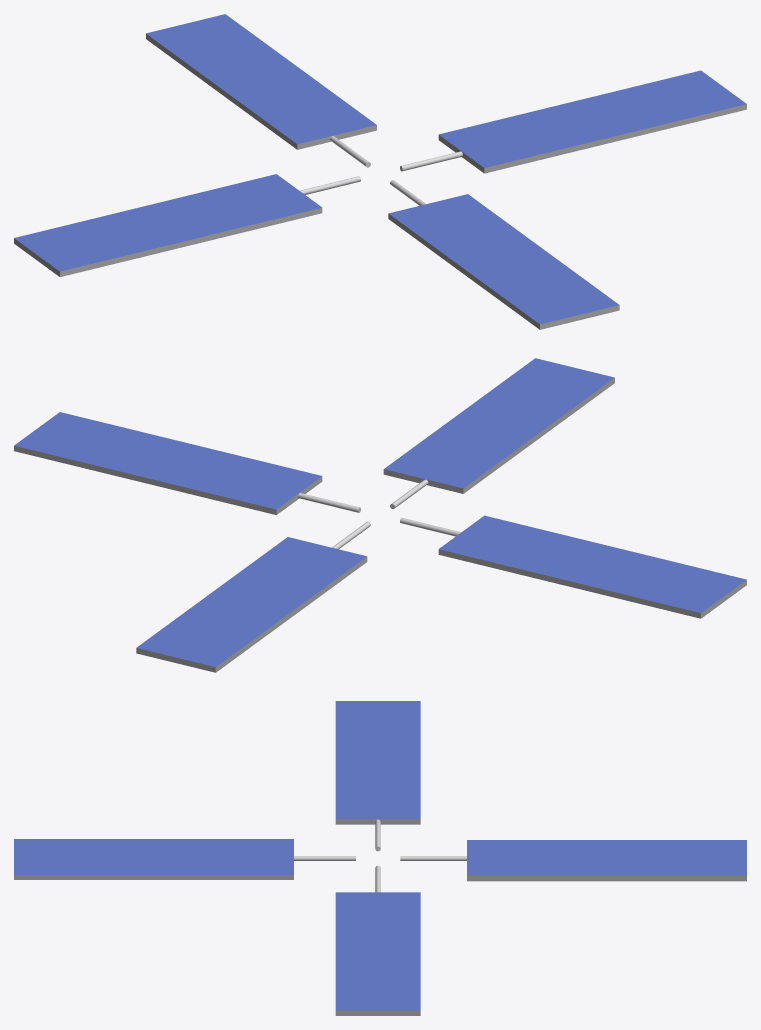
The model's file is Satellite Kit wings 3.glb.
3 views of the same model, one above another, from view 1: azimuth 30°, elevation 25°; view 2: azimuth 150°, elevation 25°; view 3: azimuth 270°, elevation 25° (orthographic). The views are drawn at different scales.
Parts seen in each view (by area): view 1: SatWing1.001, SatWing2, SatWing4, SatWing3; view 2: SatWing1.001, SatWing2, SatWing3, SatWing4; view 3: SatWing3, SatWing4, SatWing2, SatWing1.001.
Boxes of the visible parts, left/top/right/bottom form: SatWing1.001: left=14, top=174, right=322, bottom=276; SatWing2: left=438, top=70, right=746, bottom=173; SatWing4: left=388, top=194, right=619, bottom=329; SatWing3: left=146, top=14, right=376, bottom=149; SatWing1.001: left=438, top=515, right=746, bottom=618; SatWing2: left=14, top=412, right=322, bottom=514; SatWing3: left=136, top=537, right=367, bottom=672; SatWing4: left=383, top=358, right=614, bottom=493; SatWing3: left=467, top=840, right=746, bottom=881; SatWing4: left=14, top=839, right=293, bottom=879; SatWing2: left=335, top=892, right=420, bottom=1015; SatWing1.001: left=335, top=701, right=420, bottom=824.
Bounding box in the file's own units: 0.259 × 0.002 × 0.259.
